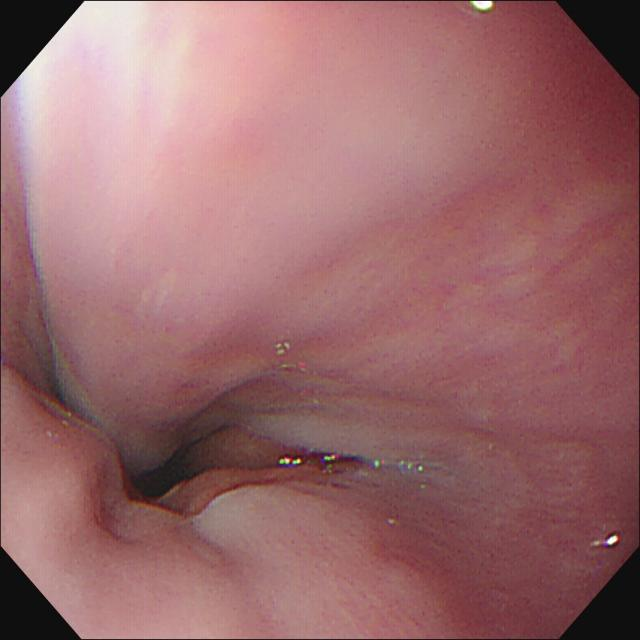I: (2, 256, 382, 556)
U: (591, 532, 622, 549), (470, 2, 499, 16), (279, 454, 304, 469), (323, 454, 339, 463)
